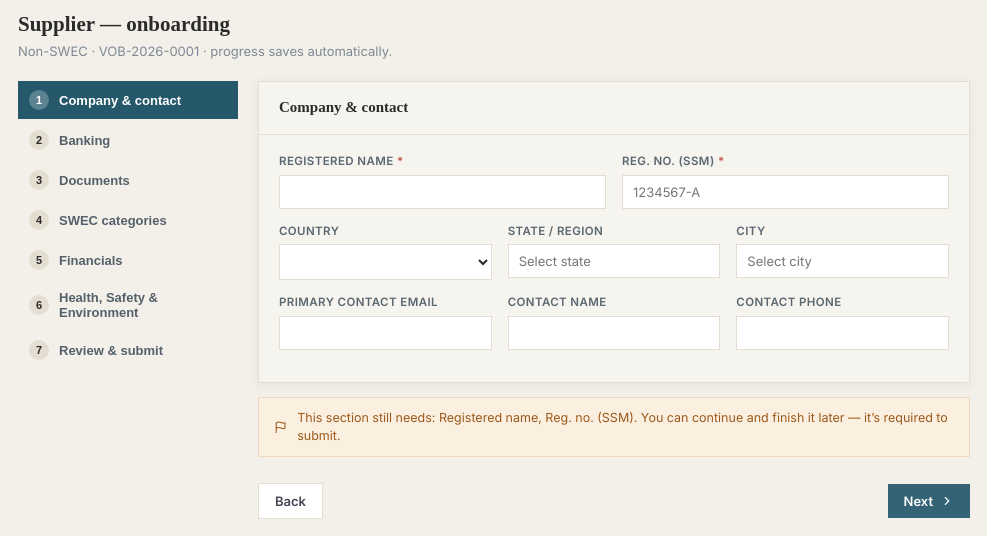
Test: OnboardingForm (Slice C) › renders the company section and, for Non-SWEC, a Financials step + the pack question (D3)
expect the field labelled "Registered name" is shown: met, box left=279, top=175, right=606, bottom=209
expect the button "5 Financials" is shown: met, box left=18, top=241, right=238, bottom=279
# The question pack renders with the shared renderer (yes/no answer control).
Click the button "6 Health, Safety & Environment". click: (128, 305)
box: left=18, top=281, right=238, bottom=329
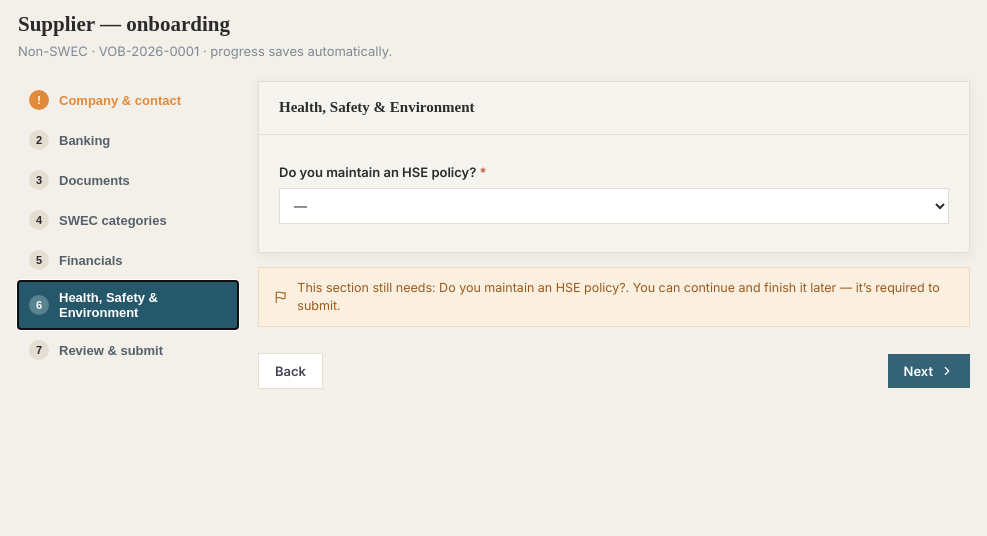
expect the text "Do you maintain an HSE policy?" is shown: met, box left=279, top=164, right=476, bottom=180
